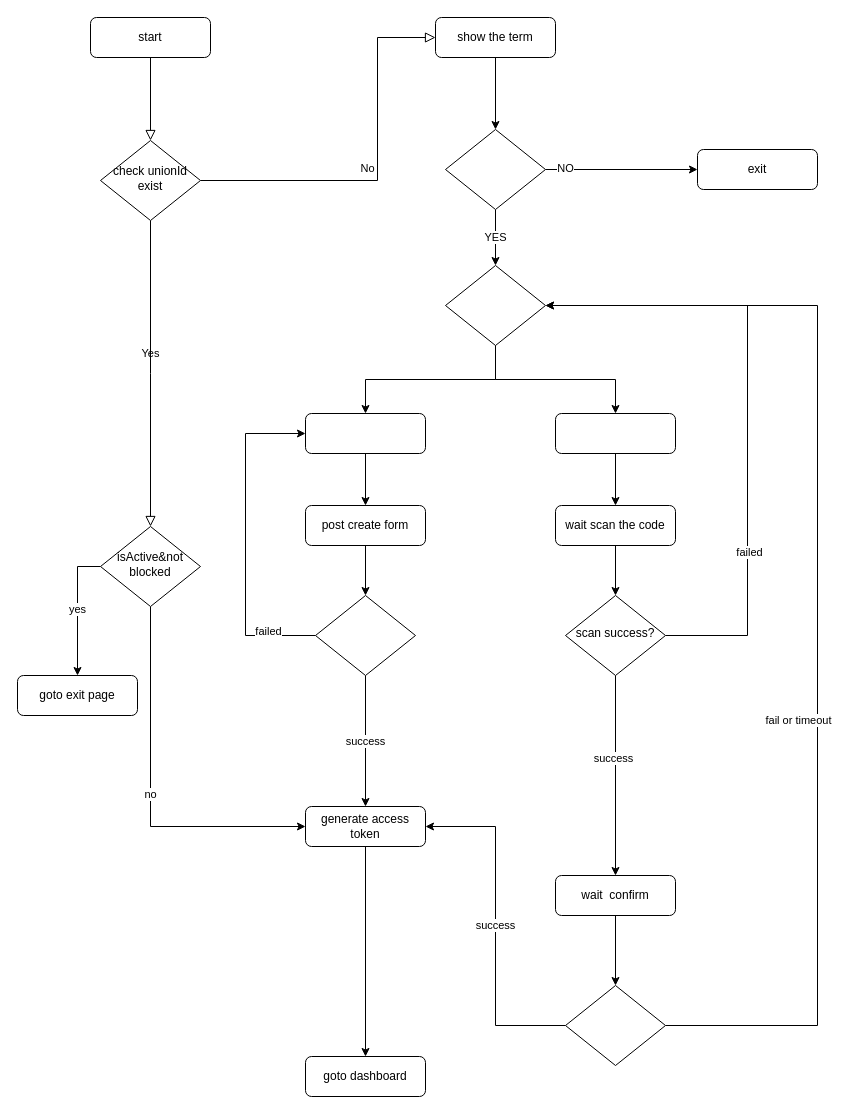
Image size: 848x1114. Some labels were removed from this diagram. Here are the shapes that lost their labels. From the top down, the box of each, then its label:
(444, 128, 546, 210): agree?
(444, 264, 546, 346): choice action
(304, 412, 426, 454): create new
(554, 412, 676, 454): join team
(314, 594, 416, 676): create success?
(564, 984, 666, 1066): confirm success?
